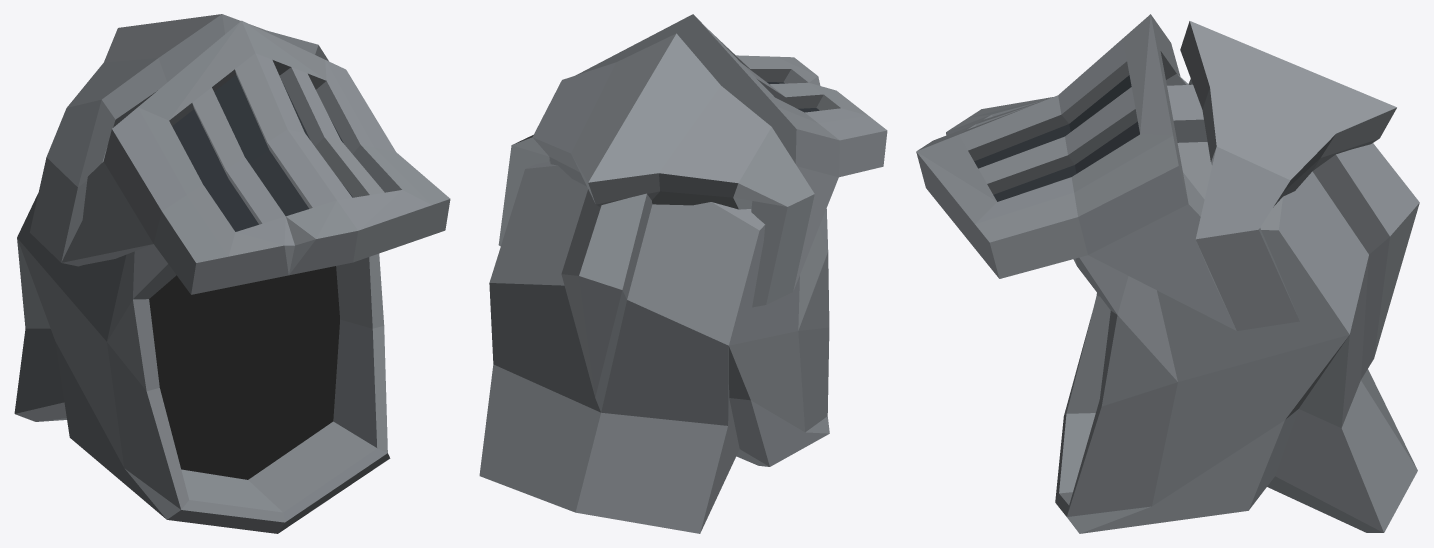
The model's file is Chr_HeadCoverings_No_Hair_11_Static.fbx.
3 renders of one model, left to right at view 1: azimuth 30°, elevation 25°; view 2: azimuth 150°, elevation 25°; view 3: azimuth 270°, elevation 25°, orthographic. The views are drawn at different scales.
Parts seen in each view (by area): view 1: Chr_HeadCoverings_No_Hair_11_Static; view 2: Chr_HeadCoverings_No_Hair_11_Static; view 3: Chr_HeadCoverings_No_Hair_11_Static.
Part boxes in pixels (x1=…): Chr_HeadCoverings_No_Hair_11_Static: x1=14, y1=14, x2=450, y2=533; Chr_HeadCoverings_No_Hair_11_Static: x1=479, y1=14, x2=887, y2=533; Chr_HeadCoverings_No_Hair_11_Static: x1=916, y1=14, x2=1419, y2=533.
Bounding box in the file's own units: 0.2809 × 0.4513 × 0.4018.
